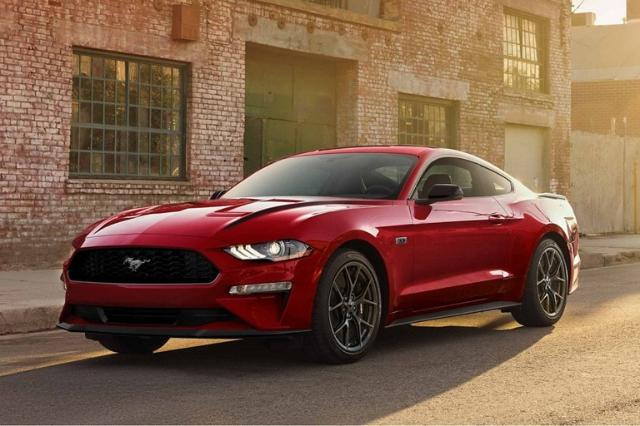ford-mustang: (53, 146, 580, 364)
